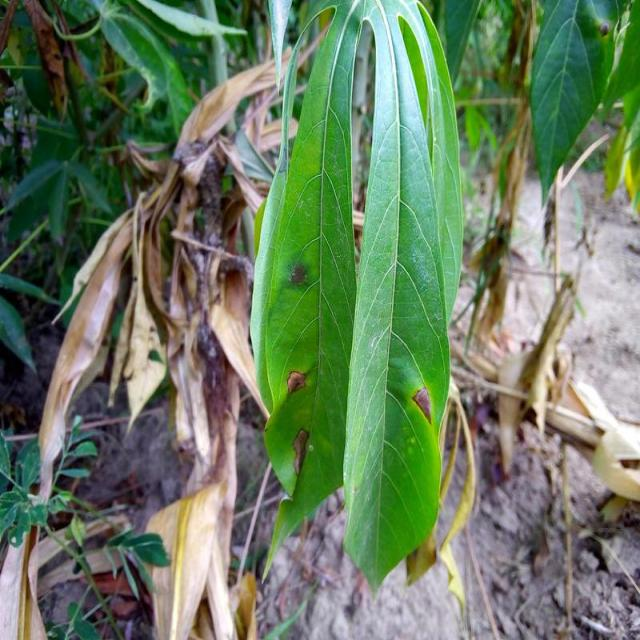cassava leaf: (250, 0, 464, 592)
